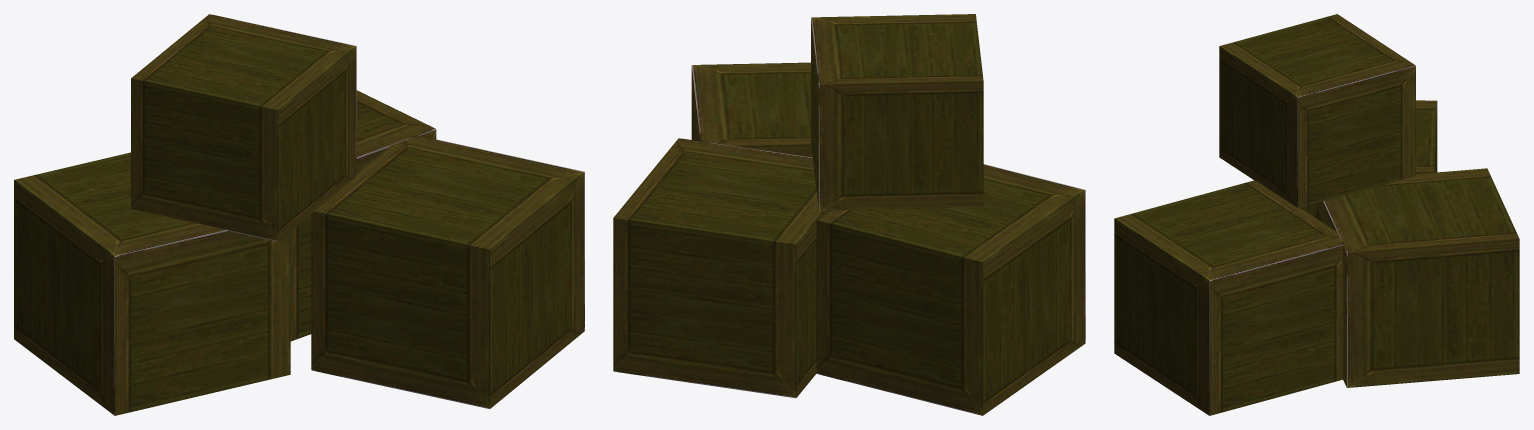
File: Yland1_fz_07 Yland3.FBX
3 renders of one model, left to right at view 1: azimuth 30°, elevation 25°; view 2: azimuth 150°, elevation 25°; view 3: azimuth 270°, elevation 25°, orthographic. The views are drawn at different scales.
Parts seen in each view (by area): view 1: Yland1_fz_07 Yland3; view 2: Yland1_fz_07 Yland3; view 3: Yland1_fz_07 Yland3.
Part boxes in pixels (<box>): Yland1_fz_07 Yland3: <box>14,14,584,415</box>; Yland1_fz_07 Yland3: <box>613,14,1085,415</box>; Yland1_fz_07 Yland3: <box>1114,14,1519,415</box>.
Size of the model in its own units: 3.37 by 2.12 by 3.18.
